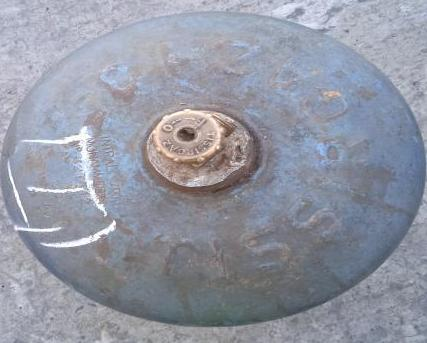cylinder: (1, 1, 427, 343)
